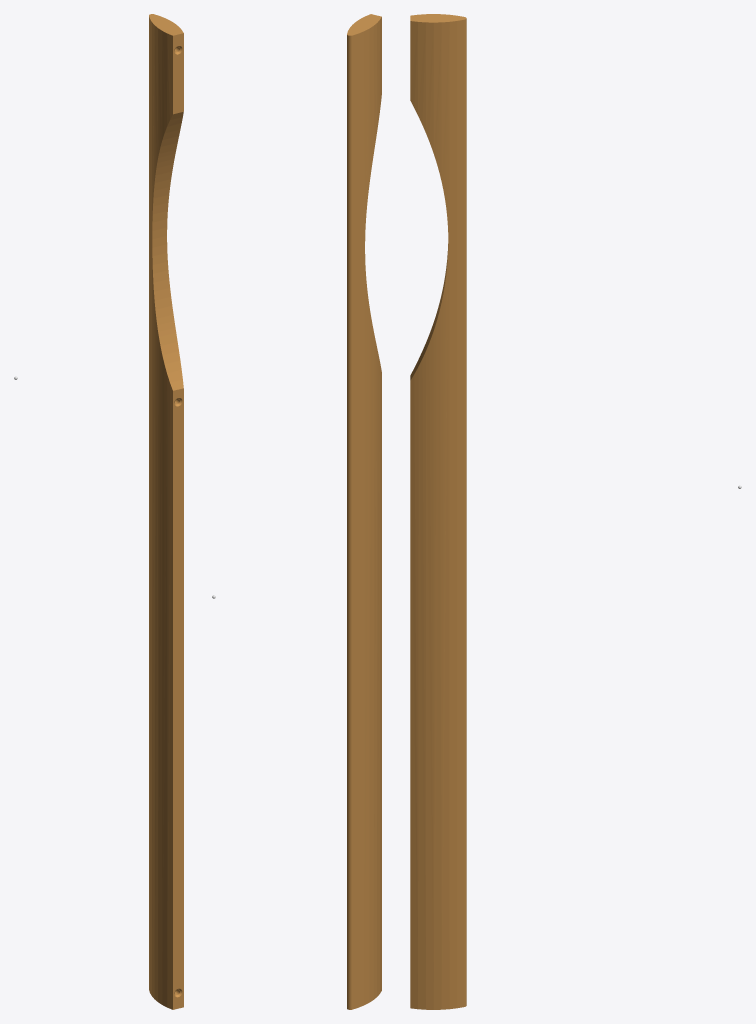
The model's file is 194 pvd gold.glb.
3 renders of one model, left to right at view 1: azimuth 30°, elevation 25°; view 2: azimuth 150°, elevation 25°; view 3: azimuth 270°, elevation 25°, orthographic.
Parts seen in each view (by area): view 1: CABINET_HANDLE_194; view 2: CABINET_HANDLE_194; view 3: CABINET_HANDLE_194.
Part boxes in pixels (box(x1,y1,x2,y2)): CABINET_HANDLE_194: box(149, 14, 183, 1009); CABINET_HANDLE_194: box(347, 14, 381, 1009); CABINET_HANDLE_194: box(410, 14, 466, 1009).
Bounding box in the file's own units: 0.123 × 6.58 × 2.
